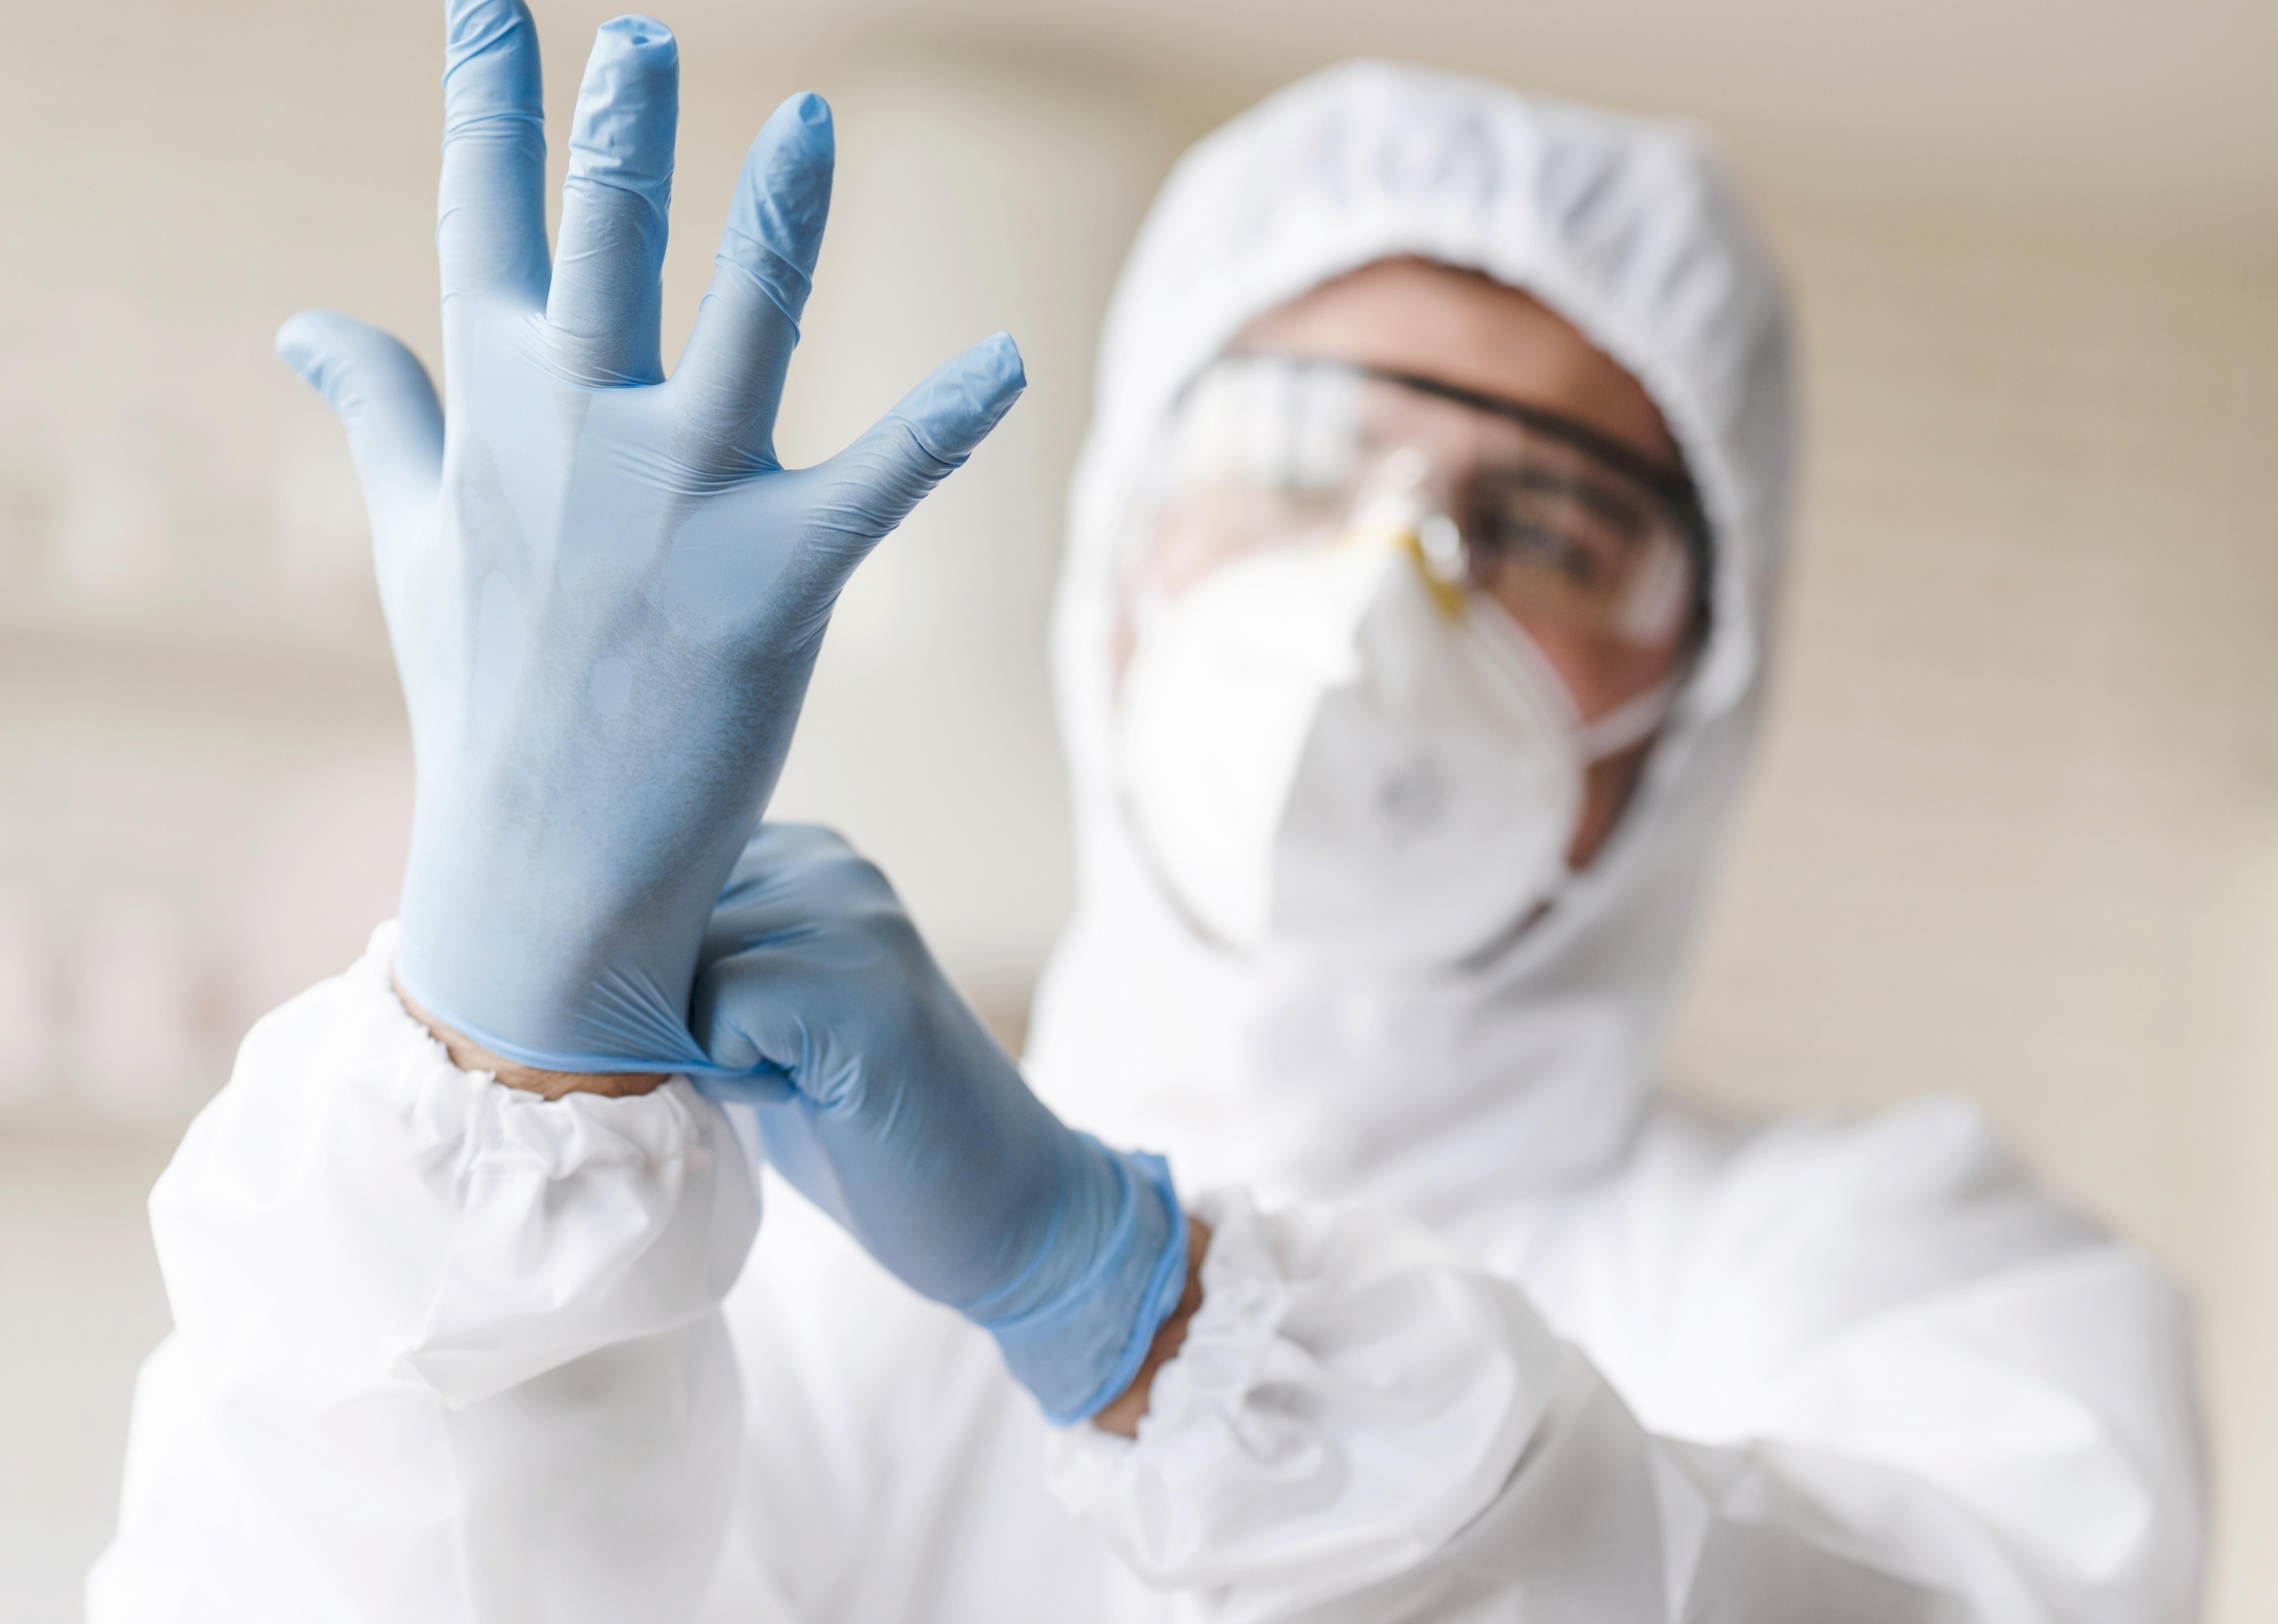glove: (276, 2, 1007, 1062), (684, 814, 1070, 1417)
